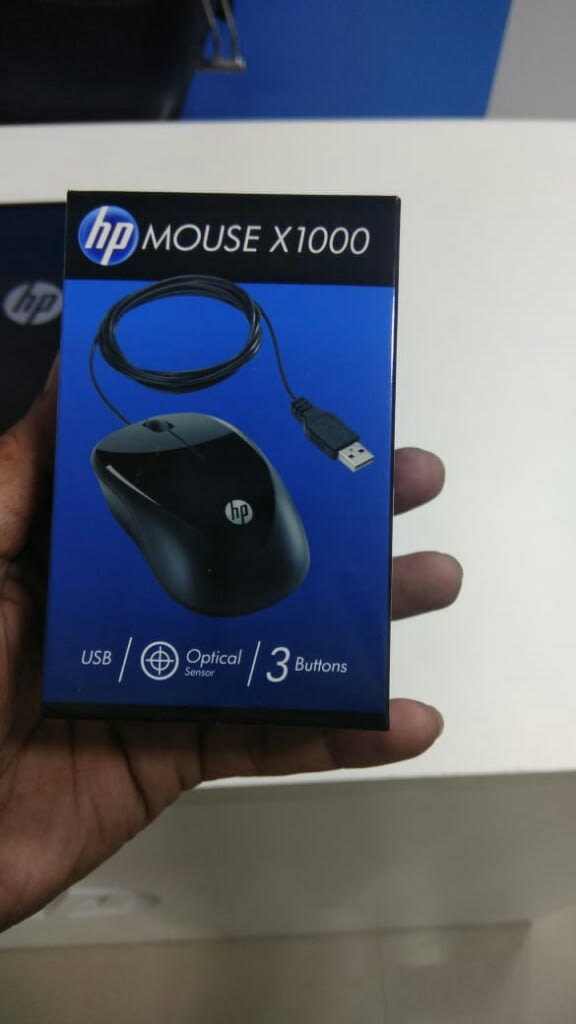hp-mouse-X1000: (51, 289, 384, 621)
